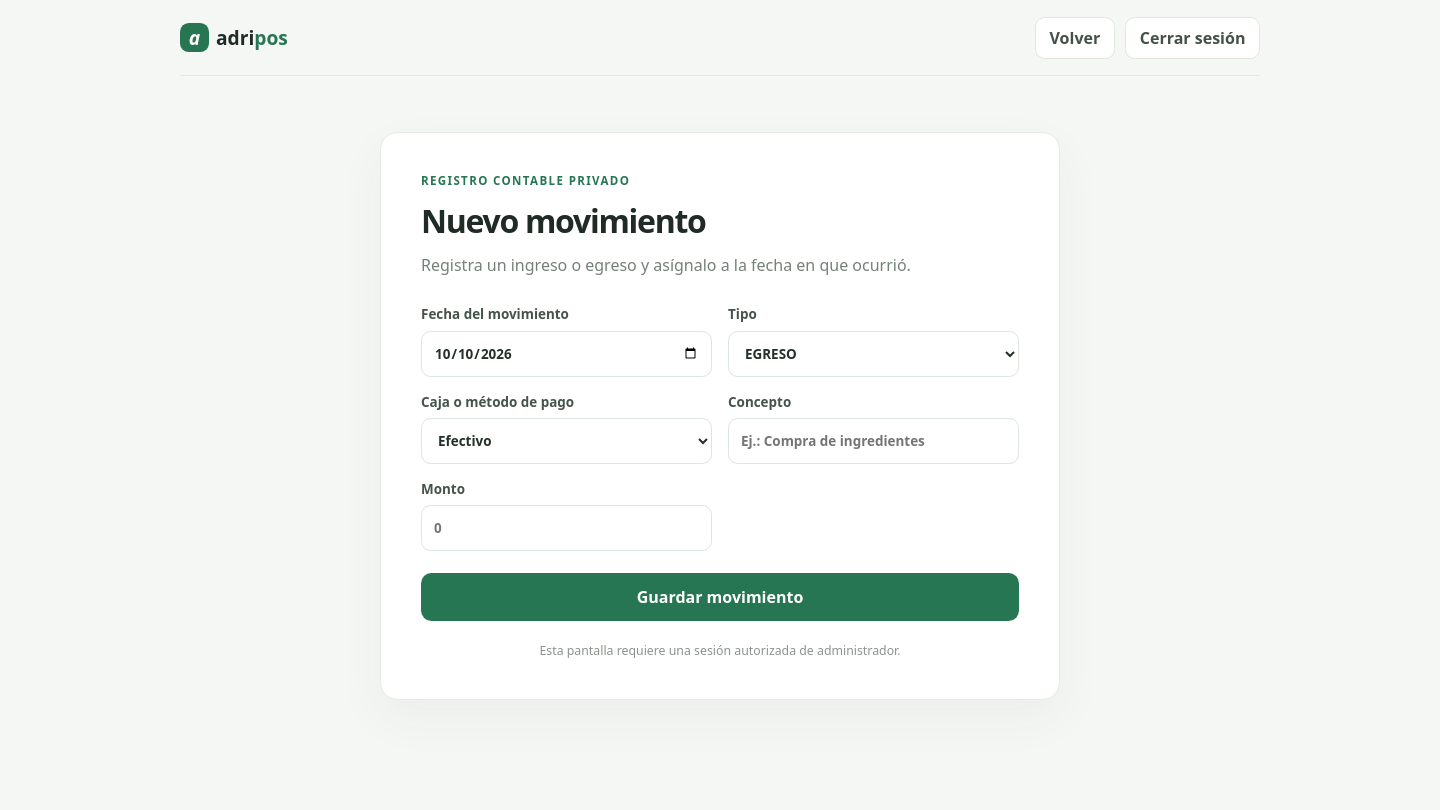
Test case: AccountingEntryView › registers an income or expense for the selected date
Expected: the dropdown labelled "Tipo" shows "EGRESO", [728,331,1019,377]
In the date field labelled "Fecha del movimiento": (566, 354) [421,331,712,377], type "2026-08-21"
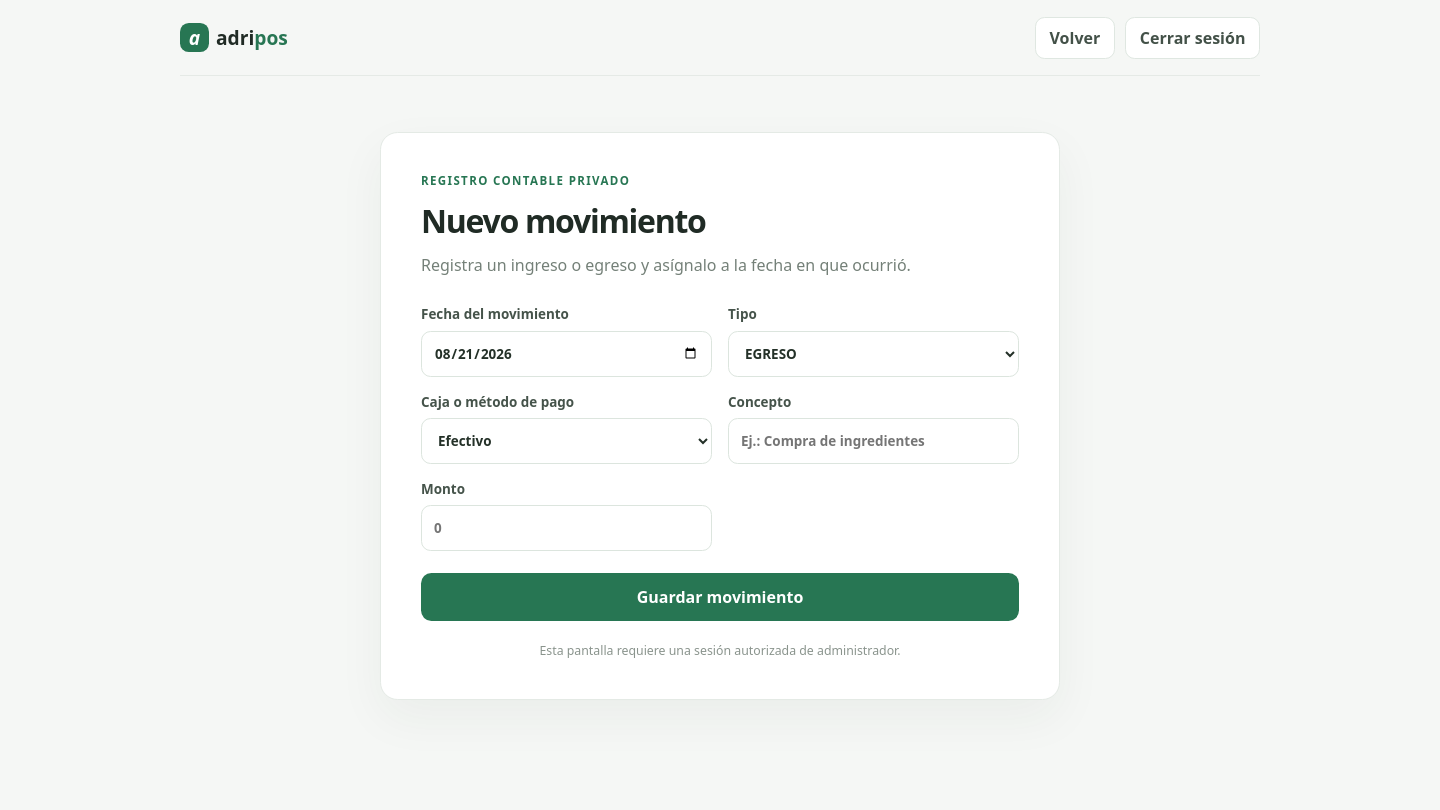
Select "INGRESO" in the dropdown labelled "Tipo": (874, 354) [728,331,1019,377]
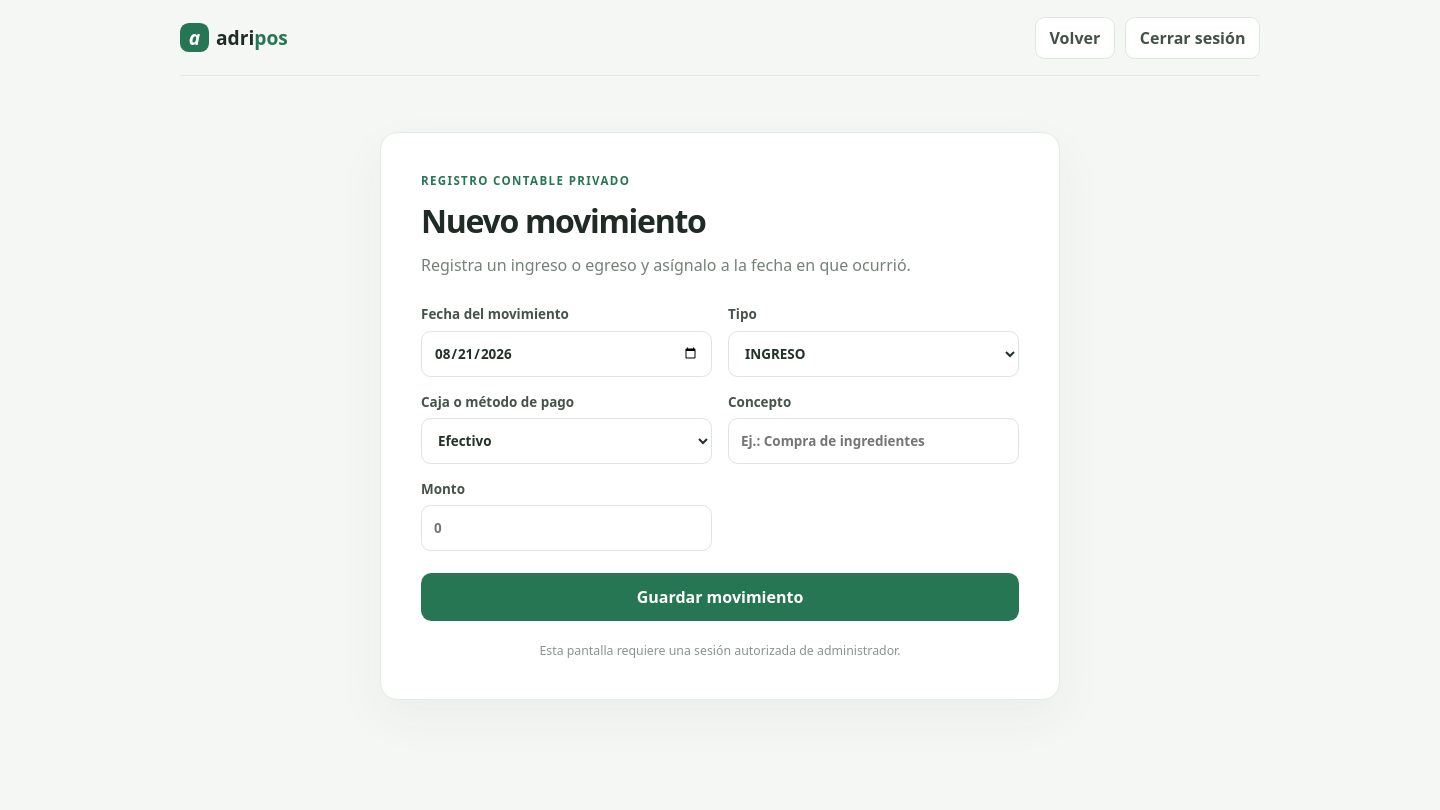
In the field with placeholder "Ej.: Compra de ingredientes": (874, 441) [728,418,1019,464], type "Venta especial"
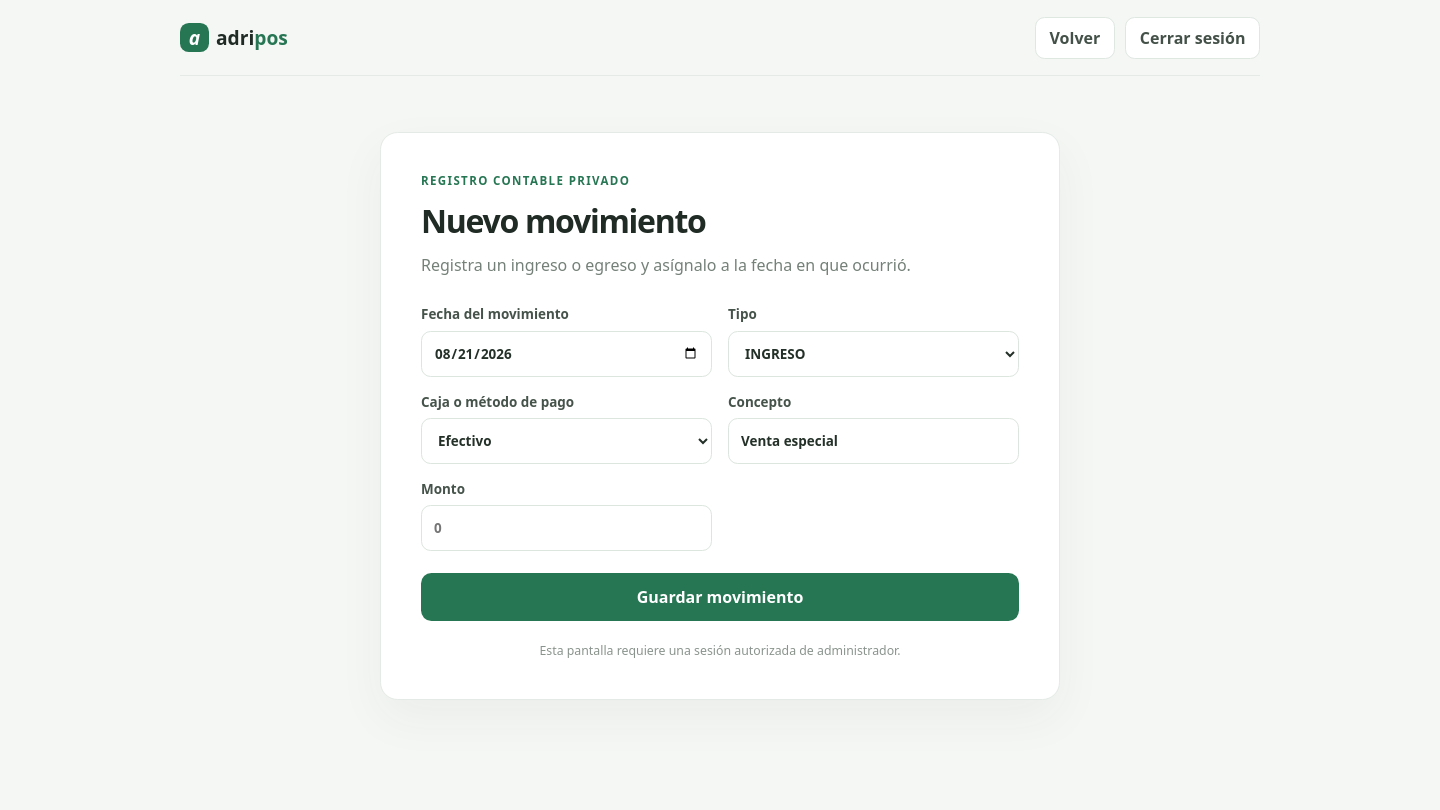
In the number field labelled "Monto": (566, 528) [421,505,712,551], type "27500"
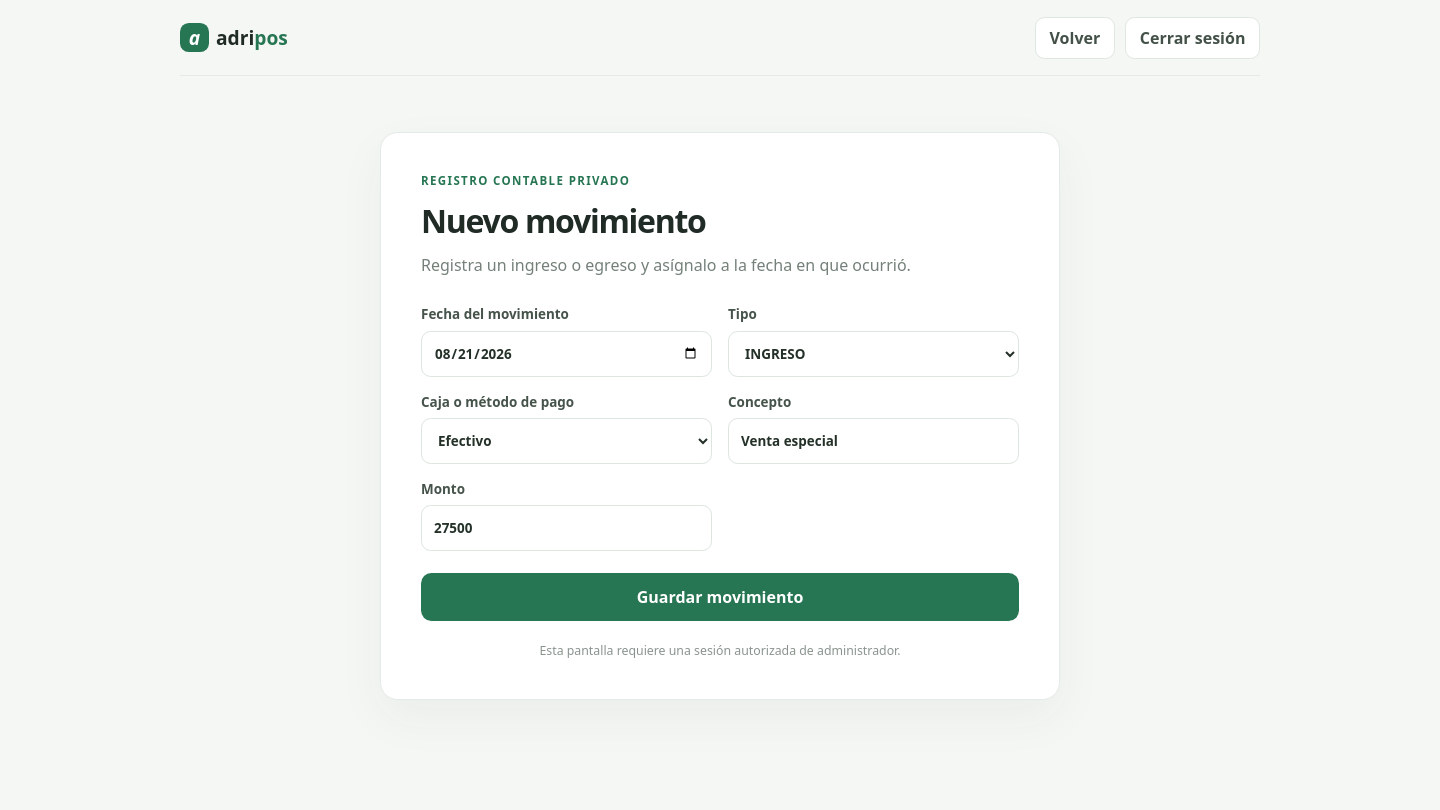
Submit the form, box [421,305,1019,621]
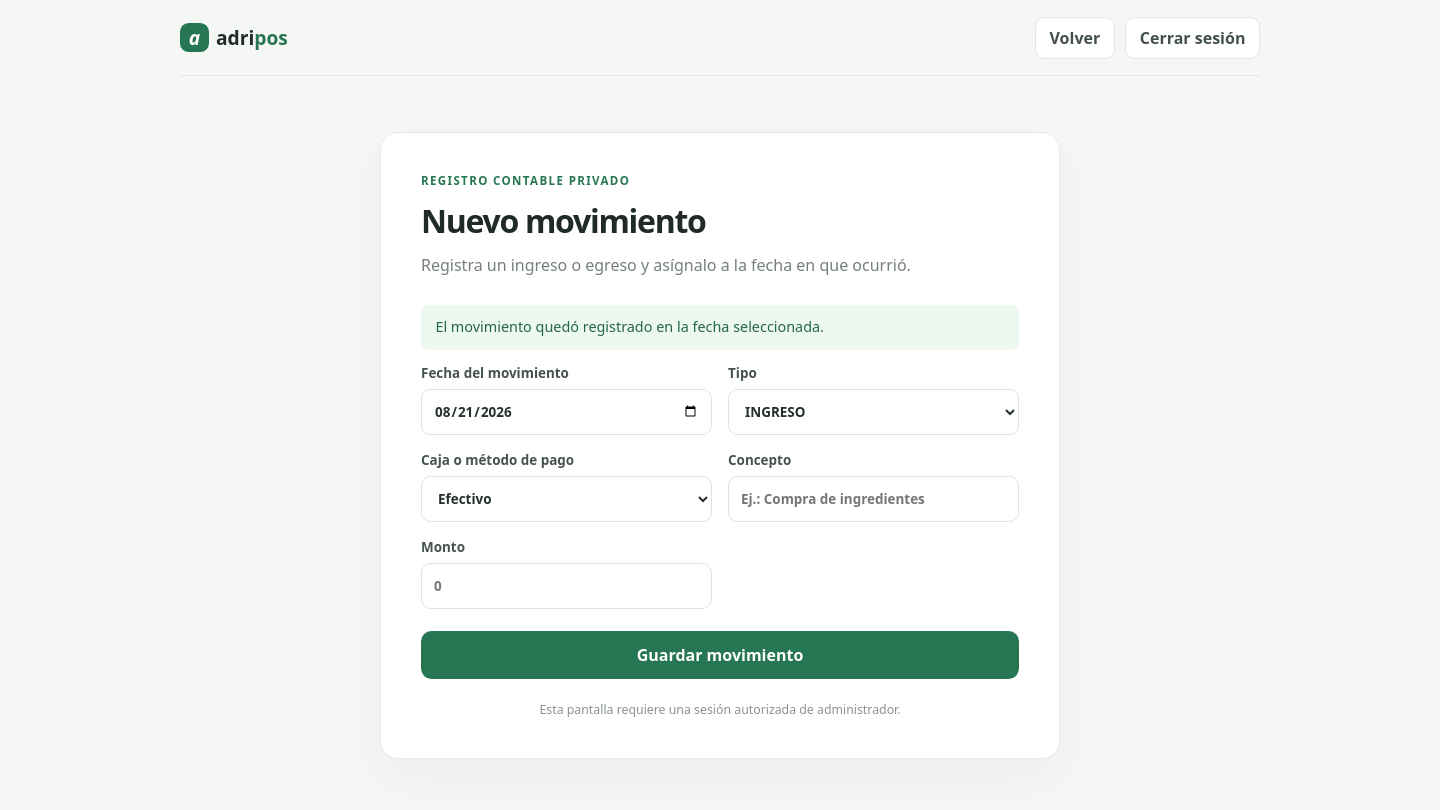
Expected: the text "El movimiento quedó registrado en la fecha seleccionada." is shown, [421,305,1019,350]
